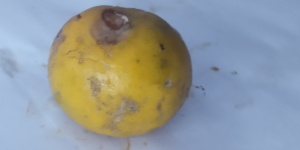BAD: (49, 5, 193, 135)
